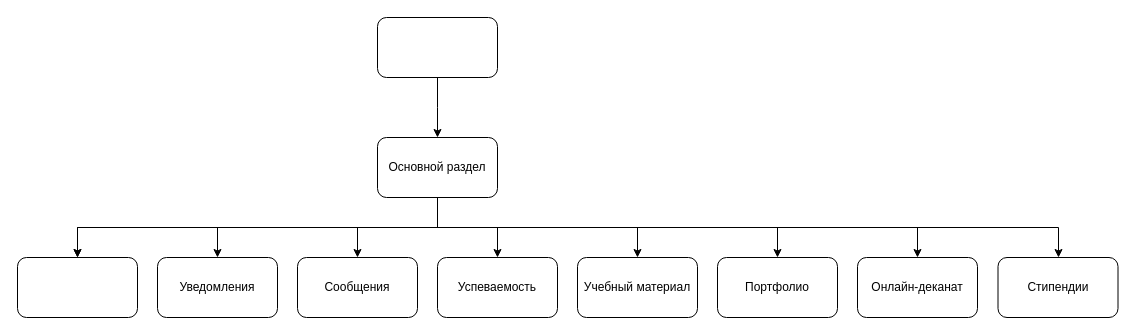
Some shapes in this 1136 by 335 pixel diagram are drawn without their labels. Here are the shapes that lost their labels. From the top down, the centre of each, then its label:
At point 437,47: "Авторизация".
At point 77,287: "Профиль".
